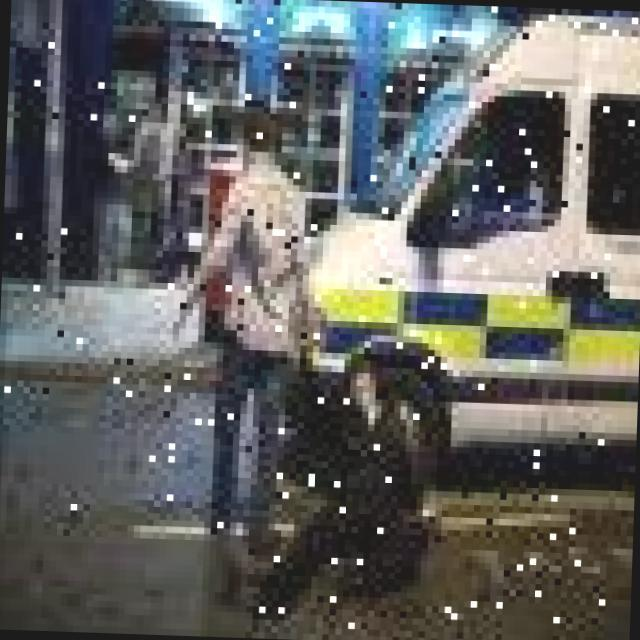emergency-vehicle: (269, 0, 640, 497)
